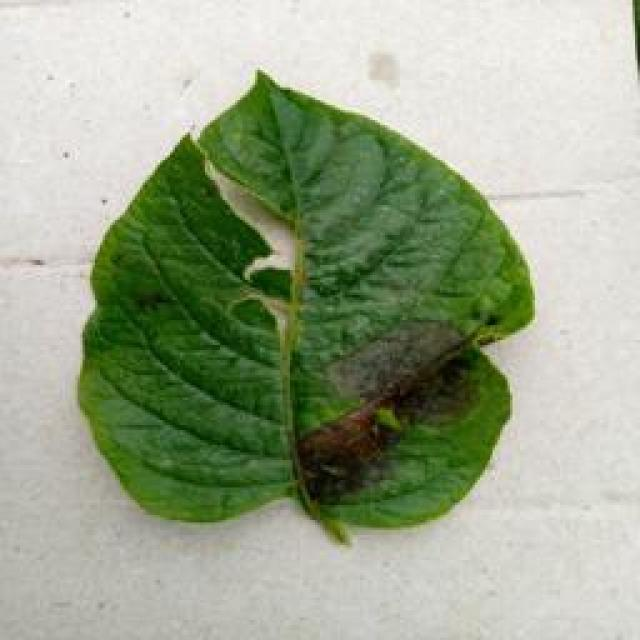late_blight: (72, 65, 538, 540)
